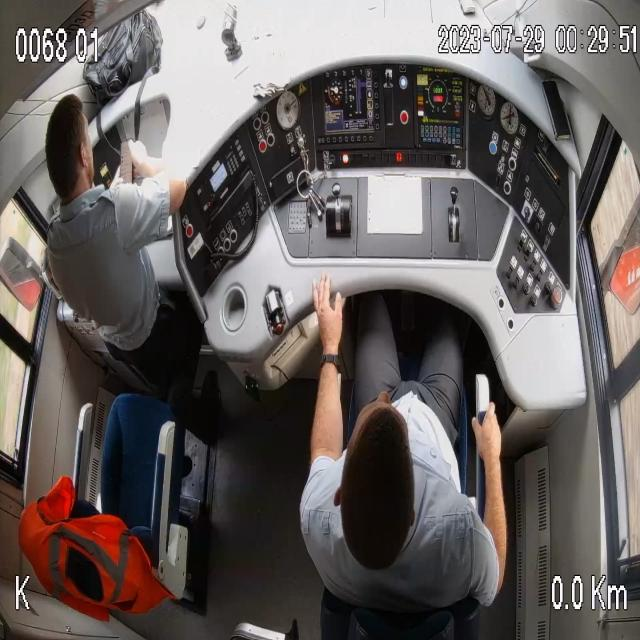smartphone: (119, 136, 141, 184)
